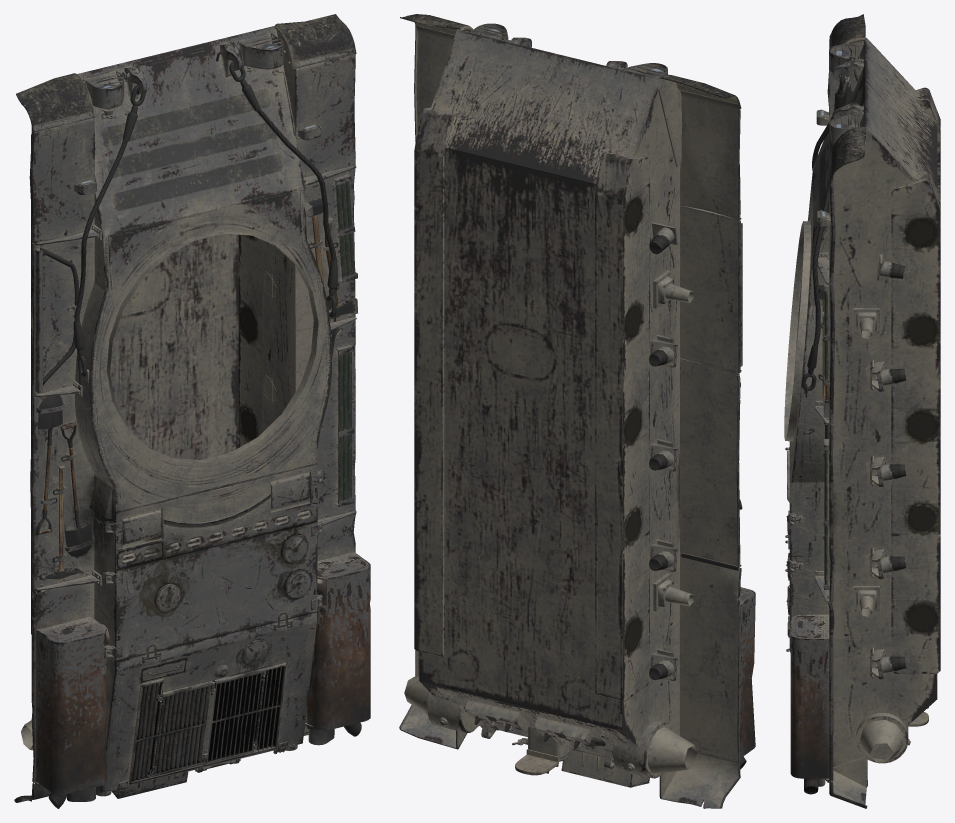
File: Hull.glb
The picture shows the model from 3 angles, left to right: view 1: azimuth 30°, elevation 25°; view 2: azimuth 150°, elevation 25°; view 3: azimuth 270°, elevation 25°; orthographic projection. The views are drawn at different scales.
Visible parts, largest first — view 1: set_0_group_0; view 2: set_0_group_0; view 3: set_0_group_0.
Part boxes in pixels (x1,y1,x2,y2): set_0_group_0: (14, 14, 370, 808); set_0_group_0: (399, 14, 755, 808); set_0_group_0: (784, 14, 940, 808).
Size of the model in its own units: 2.81 by 5.99 by 1.28.
1 material, 1 textured.
